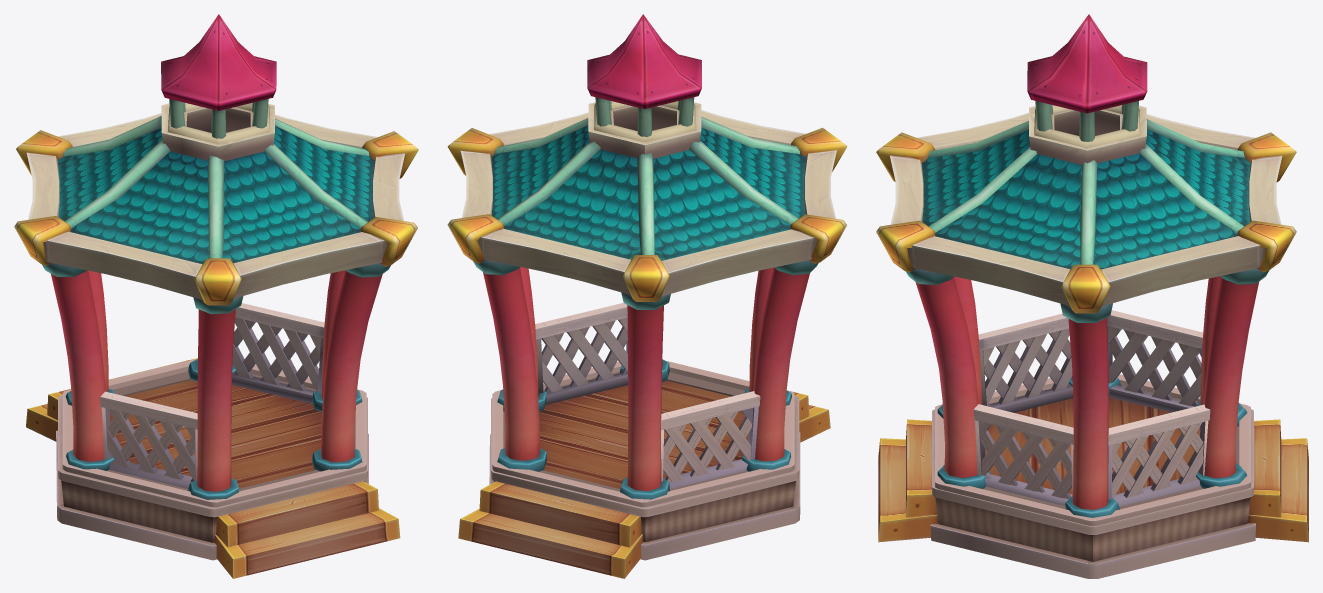
The model's file is SE_Gazebo_01.fbx.
The picture shows the model from 3 angles, left to right: view 1: azimuth 30°, elevation 25°; view 2: azimuth 150°, elevation 25°; view 3: azimuth 270°, elevation 25°; orthographic projection. The views are drawn at different scales.
Parts seen in each view (by area): view 1: SE_Gazebo_01; view 2: SE_Gazebo_01; view 3: SE_Gazebo_01.
Boxes of the visible parts, x1,y1,x2,y2 form: SE_Gazebo_01: [14, 14, 418, 578]; SE_Gazebo_01: [447, 14, 847, 578]; SE_Gazebo_01: [876, 14, 1308, 578].
Size of the model in its own units: 11.44 by 13.53 by 10.8.
